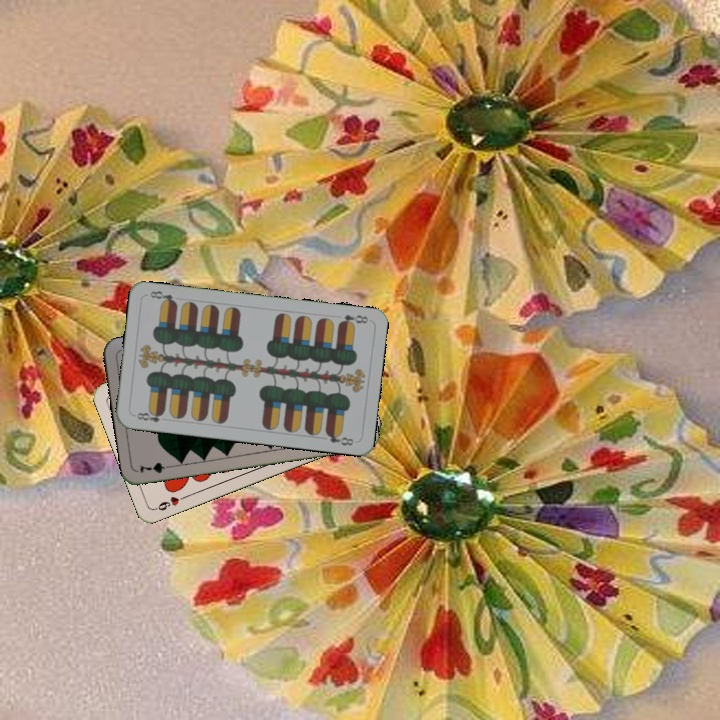E8: (130, 407, 167, 425), (334, 311, 371, 329)
G7: (136, 459, 176, 476)
H9: (151, 491, 190, 513)
